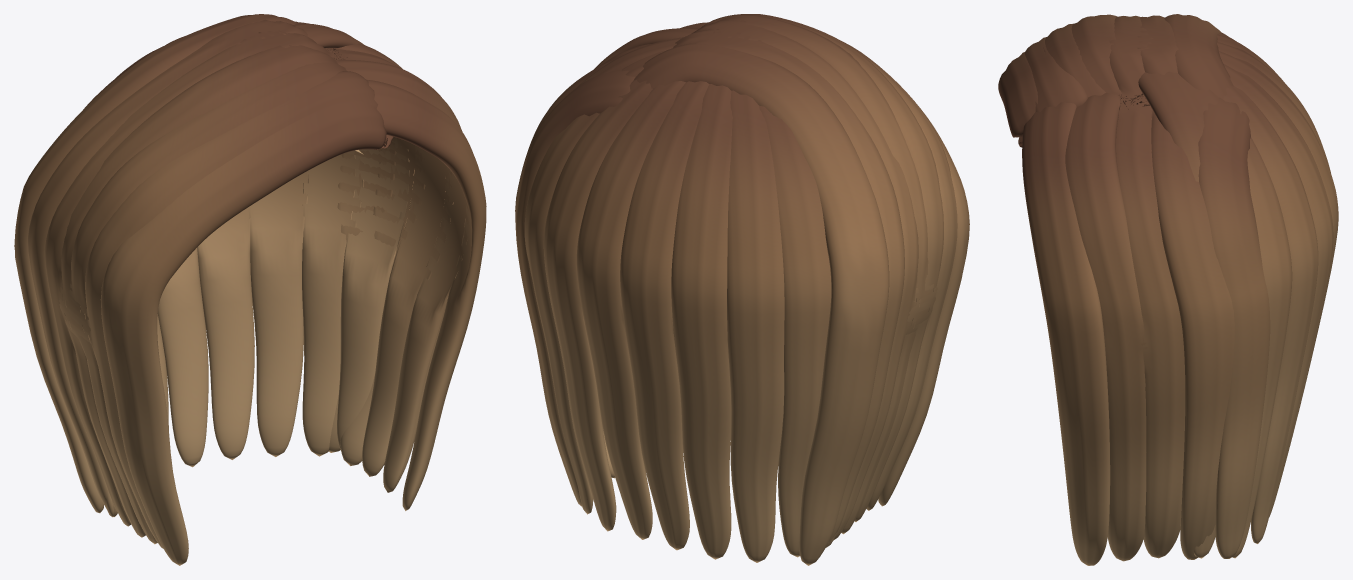
Rendered from Ombre-05361faa6984253-hair.glb.
3 views of the same model, side by side, from view 1: azimuth 30°, elevation 25°; view 2: azimuth 150°, elevation 25°; view 3: azimuth 270°, elevation 25° (orthographic).
Visible parts, largest first — view 1: 226 hair / Hair / sculpted 0.001, 226 hair / Hair / sculpted 1.002, 226 hair / Hair / sculpted 2.001; view 2: 226 hair / Hair / sculpted 0.001, 226 hair / Hair / sculpted 2.001, 226 hair / Hair / sculpted 1.002; view 3: 226 hair / Hair / sculpted 1.002, 226 hair / Hair / sculpted 2.001, 226 hair / Hair / sculpted 0.001.
Part boxes in pixels (x1,y1,x2,y2): 226 hair / Hair / sculpted 0.001: [14, 14, 453, 565]; 226 hair / Hair / sculpted 1.002: [44, 23, 486, 548]; 226 hair / Hair / sculpted 2.001: [28, 19, 469, 544]; 226 hair / Hair / sculpted 0.001: [543, 14, 969, 565]; 226 hair / Hair / sculpted 2.001: [515, 14, 943, 557]; 226 hair / Hair / sculpted 1.002: [515, 14, 957, 562]; 226 hair / Hair / sculpted 1.002: [1022, 15, 1333, 565]; 226 hair / Hair / sculpted 2.001: [1043, 15, 1338, 561]; 226 hair / Hair / sculpted 0.001: [998, 14, 1330, 558].
Bounding box in the file's own units: 1.02 × 1.2 × 0.7803.
4 materials, 4 textured.
